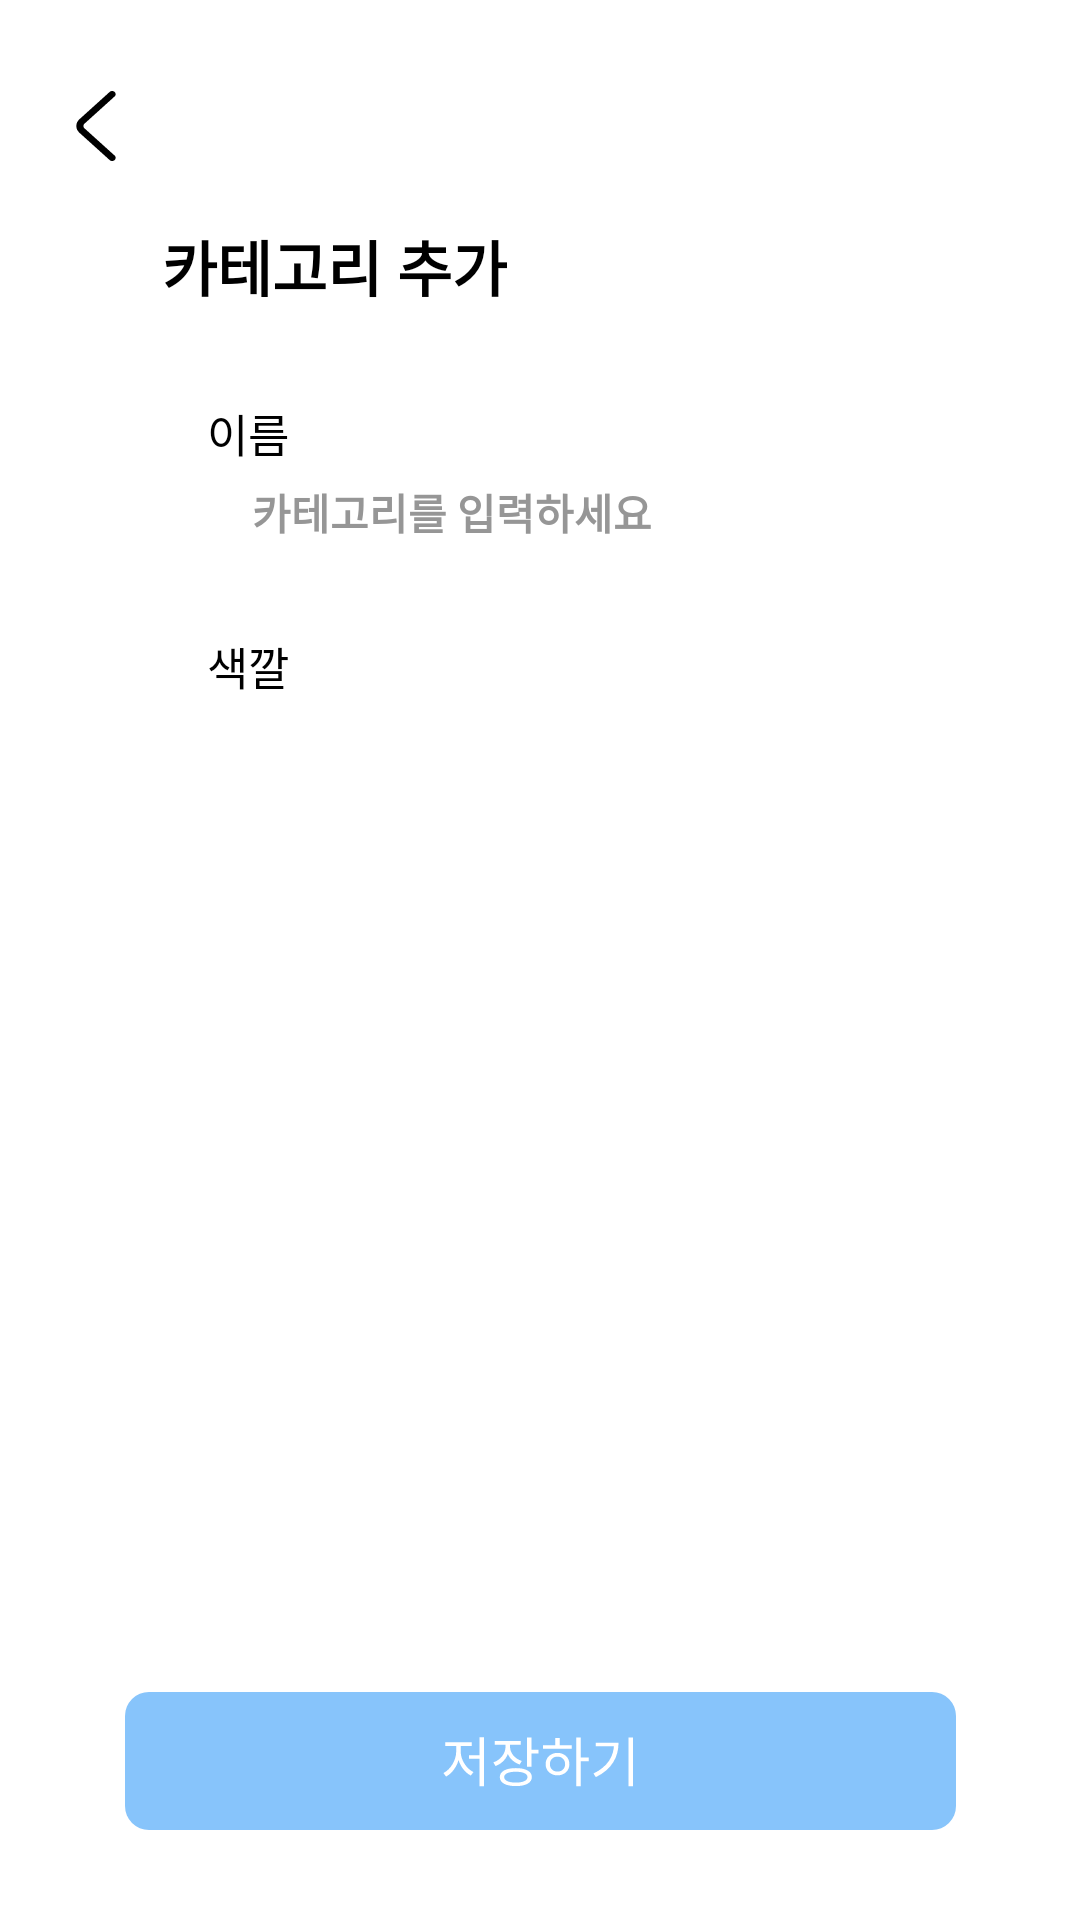

Where to tap for icons on this 1080*1920 app screen, as [x,y]:
back: [96,126]
